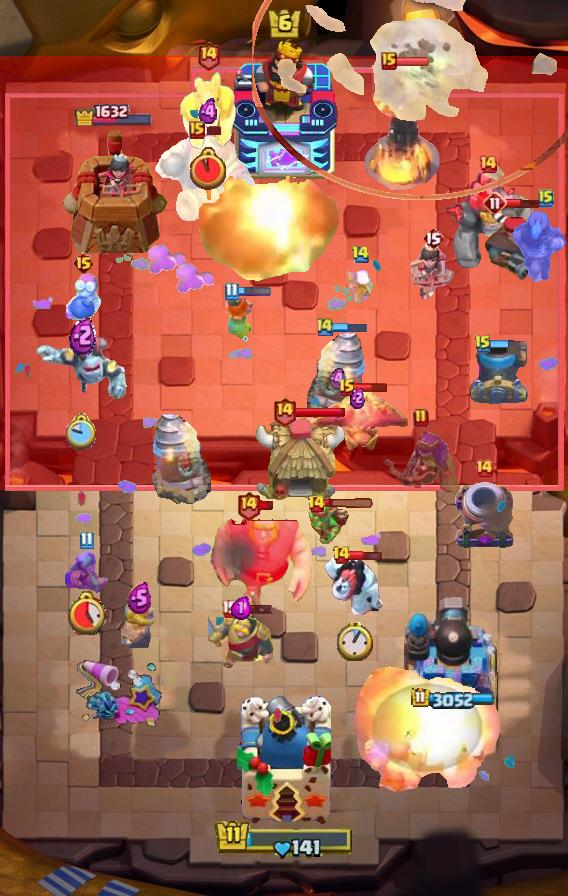balloon: (210, 509, 316, 607)
barbarian-hut: (379, 425, 463, 503)
cannoneer-tower: (441, 171, 535, 271)
clock: (215, 819, 353, 861)
electro-dragon: (362, 65, 442, 193)
electro-spirit: (68, 316, 95, 356), (128, 582, 153, 614), (197, 98, 218, 126), (231, 596, 251, 620), (329, 367, 346, 392), (351, 387, 366, 409)
elixir: (64, 590, 107, 635), (190, 147, 226, 189), (337, 621, 373, 661), (66, 413, 98, 451)
elixir-golem-small: (34, 335, 130, 401), (177, 71, 239, 151)
emote: (294, 406, 346, 418), (323, 498, 375, 510), (348, 550, 383, 563), (235, 603, 272, 615), (332, 321, 367, 333), (394, 56, 430, 67), (505, 199, 541, 210), (236, 287, 272, 298), (354, 383, 388, 394), (203, 124, 223, 135), (491, 339, 510, 350), (257, 500, 275, 511)
firecracker: (208, 614, 274, 671)
giant-skeleton: (154, 133, 262, 229)
giant-snowball: (61, 550, 111, 594), (306, 502, 350, 546)
goblin-cage: (452, 481, 516, 551)
goblin-giant: (121, 603, 157, 650)
heal-spirit: (346, 269, 374, 301)
hog-rider: (221, 293, 259, 345)
ice-golem: (63, 273, 103, 321)
inferno-dragon: (512, 206, 568, 282)
king-tower: (230, 41, 338, 181), (237, 696, 331, 826)
magic-archer: (307, 332, 367, 424), (151, 413, 211, 505)
mother-witch: (306, 386, 408, 456)
musketeer: (468, 340, 528, 404)
phoenix-small: (483, 208, 545, 280)
prince: (252, 416, 346, 506)
queen-tower: (59, 128, 169, 256)
rage: (323, 554, 387, 620)
royal-ghost: (252, 0, 568, 200)
selected: (74, 101, 154, 126), (411, 687, 495, 709)
skeleton-dragon: (408, 241, 458, 299)
text: (236, 490, 261, 521), (195, 41, 220, 71), (272, 396, 296, 427), (483, 191, 507, 215), (72, 251, 95, 275), (422, 226, 444, 250), (315, 315, 335, 336), (478, 154, 498, 174), (474, 458, 494, 478), (306, 494, 326, 514), (333, 545, 352, 565), (474, 334, 492, 354), (338, 378, 356, 398), (351, 245, 370, 263), (222, 598, 239, 617), (538, 188, 554, 208), (413, 408, 429, 428), (381, 52, 397, 70), (189, 121, 205, 139), (78, 531, 93, 550), (225, 283, 240, 301)
tower-bar: (404, 593, 502, 731)
valkyrie: (344, 664, 506, 796), (195, 176, 351, 298)
